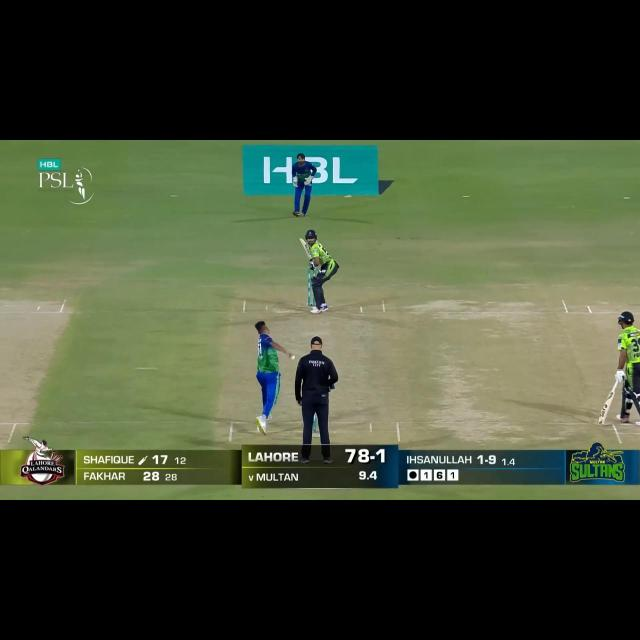bat: (597, 392, 615, 426), (298, 237, 314, 259)
toe: (596, 417, 607, 427), (299, 236, 306, 244)
